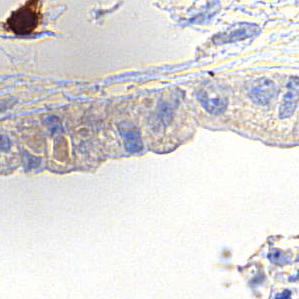Lymphocyte: (7, 2, 46, 36)
